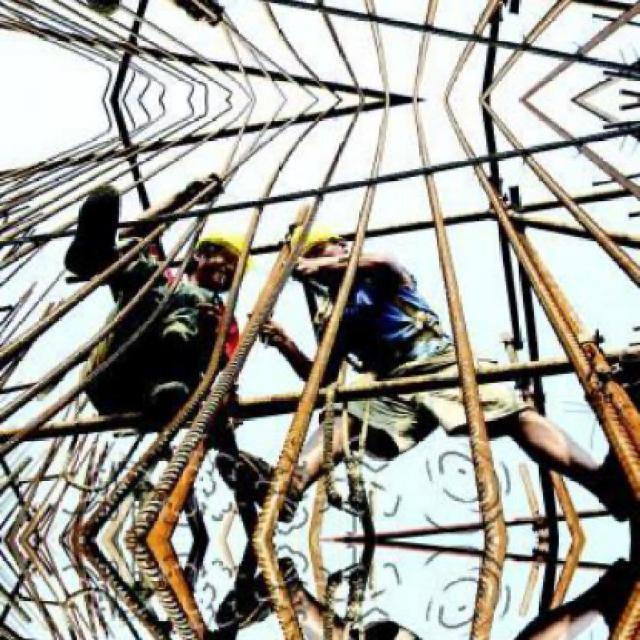helmet: (177, 222, 260, 288), (286, 220, 352, 286)
